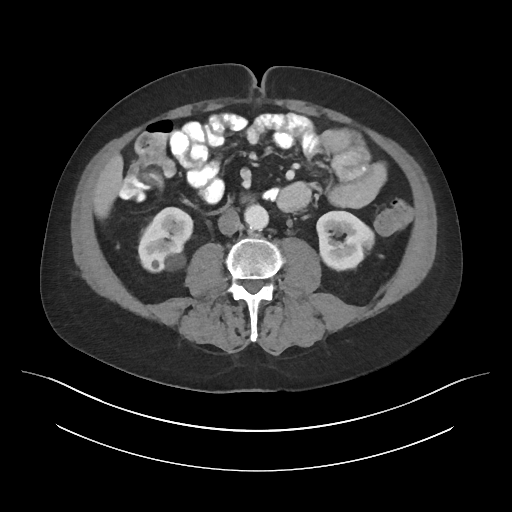Lesion: (159, 251, 189, 273)
